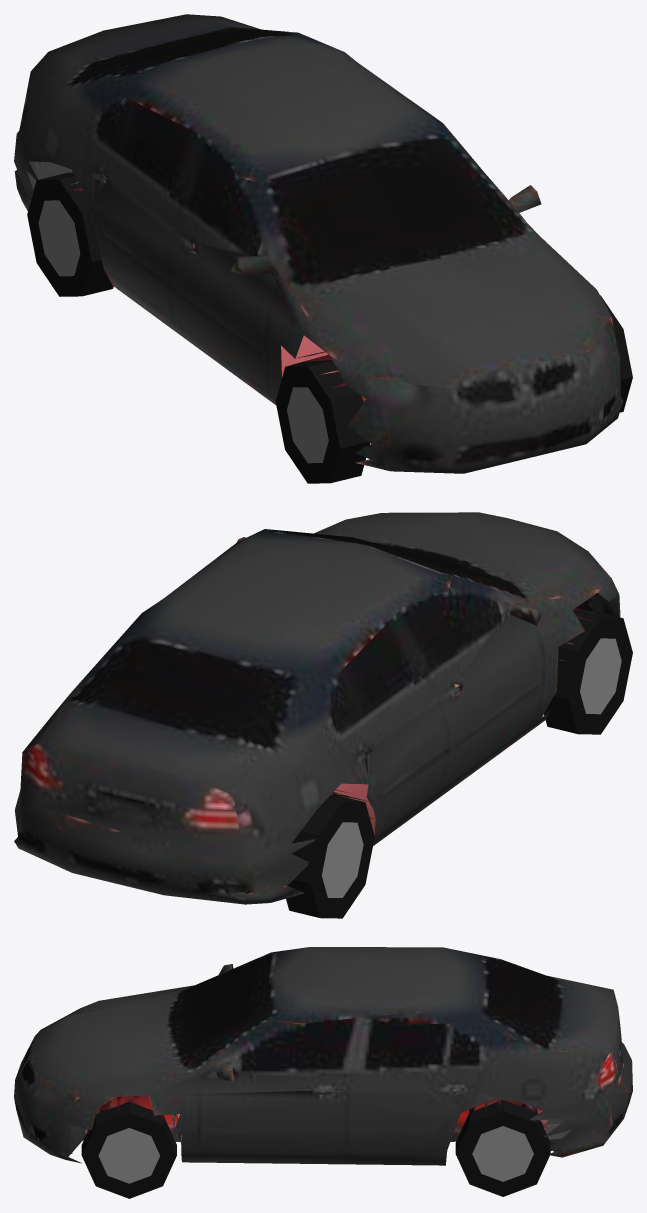
The model's file is saloon-black-far.glb.
The picture shows the model from 3 angles, top to bottom: view 1: azimuth 30°, elevation 25°; view 2: azimuth 150°, elevation 25°; view 3: azimuth 270°, elevation 25°; orthographic projection. The views are drawn at different scales.
Parts seen in each view (by area): view 1: saloon-far; view 2: saloon-far; view 3: saloon-far.
Boxes of the visible parts, bbox=[...] form: saloon-far: bbox=[14, 14, 632, 483]; saloon-far: bbox=[14, 512, 632, 918]; saloon-far: bbox=[14, 947, 632, 1198].
Size of the model in its own units: 1.89 by 1.4 by 4.51.
1 material, 1 textured.
